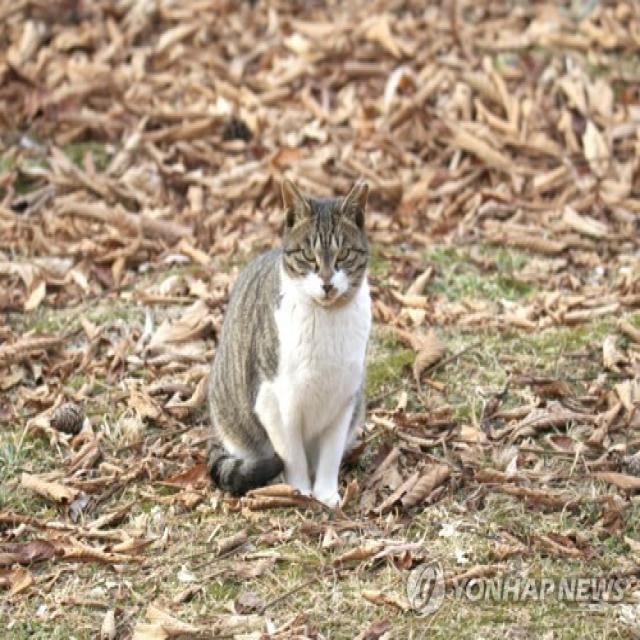cat: (144, 149, 427, 519)
